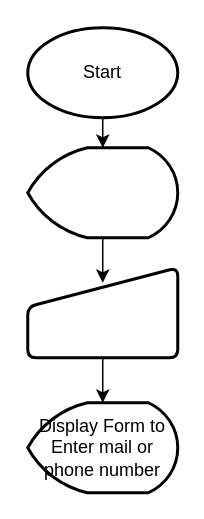
The diagram is 204 pixels wide and 519 high, and some of its shapes have lost their labels. Each missing label, with the box of its shape:
Click Forgot Password: (26, 266, 178, 358)
Login Page: (26, 146, 178, 238)
